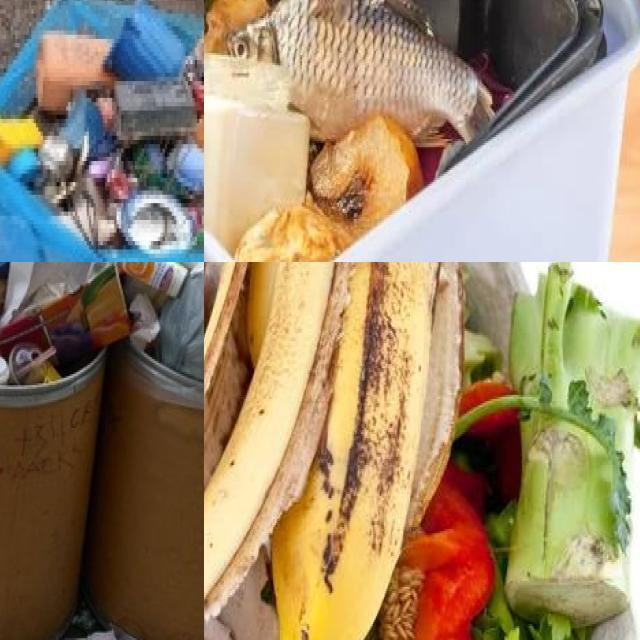Disposable: (119, 262, 187, 296), (11, 342, 61, 384), (56, 262, 108, 289), (0, 356, 9, 384)
Garbage: (204, 262, 640, 640), (204, 0, 607, 262), (0, 0, 204, 253), (0, 262, 204, 385)
Plastic: (105, 0, 185, 80), (0, 116, 44, 165)
Plastic_Bag: (159, 273, 204, 381)
